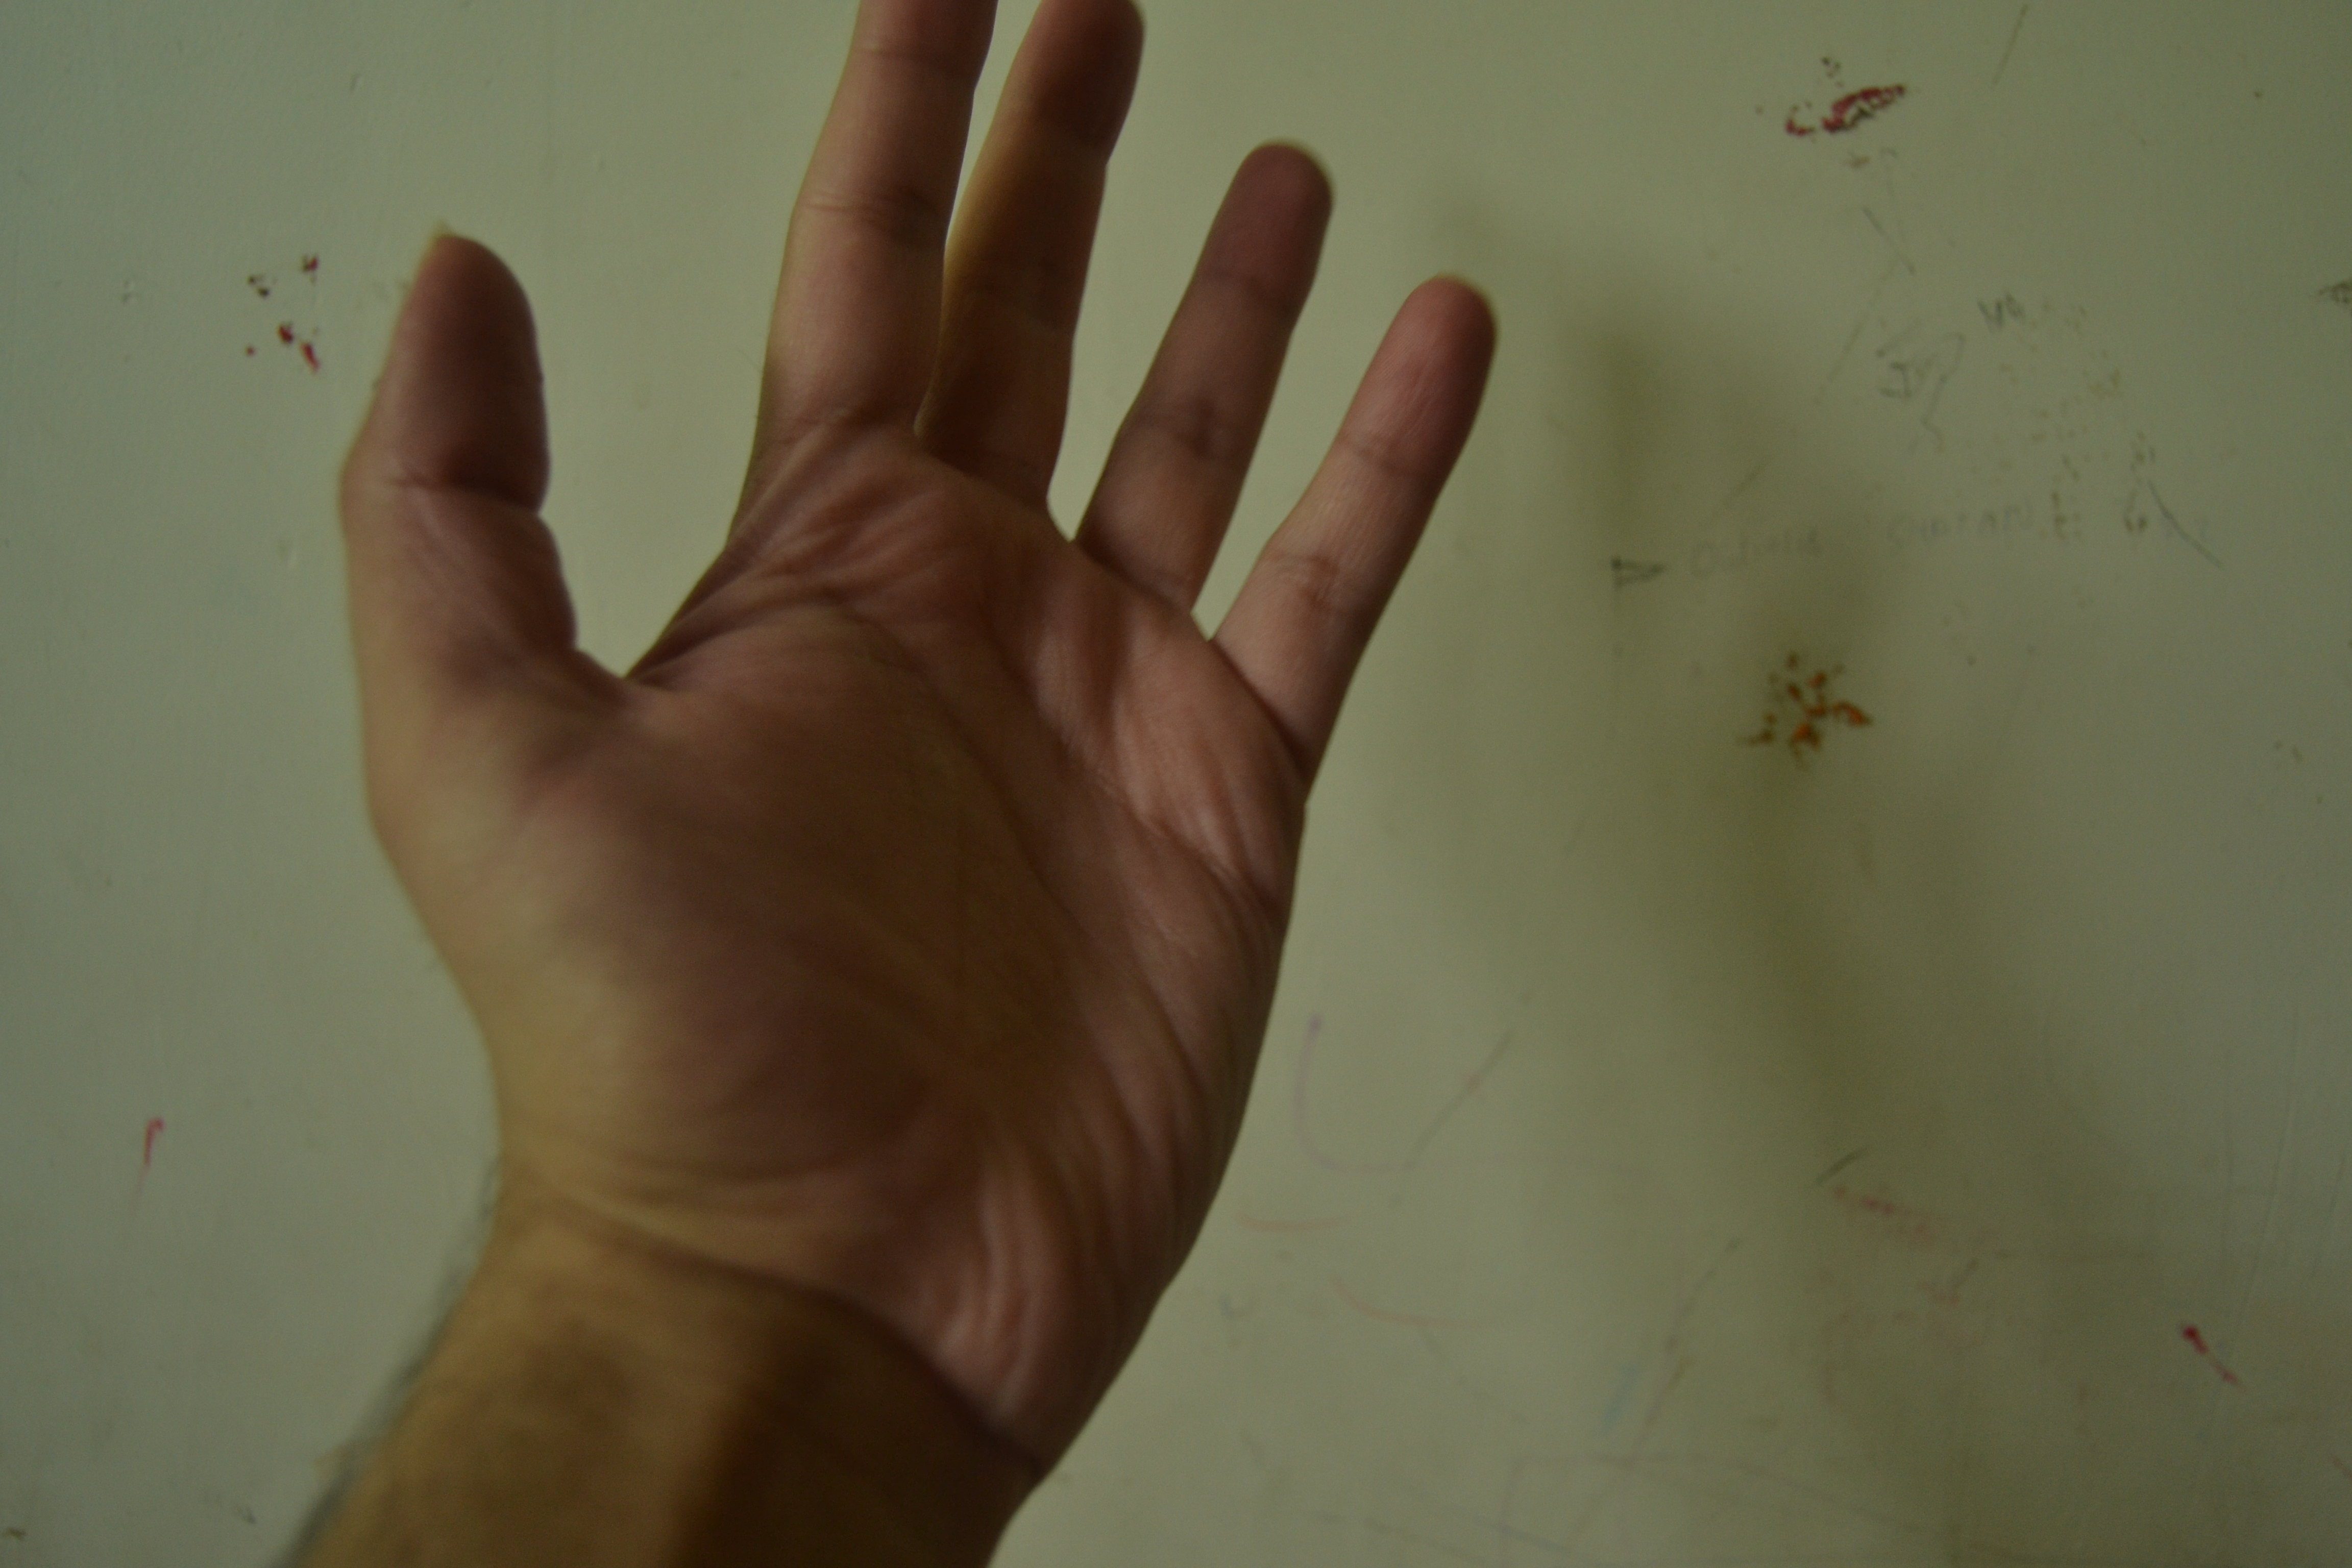move: (306, 21, 1619, 1459)
